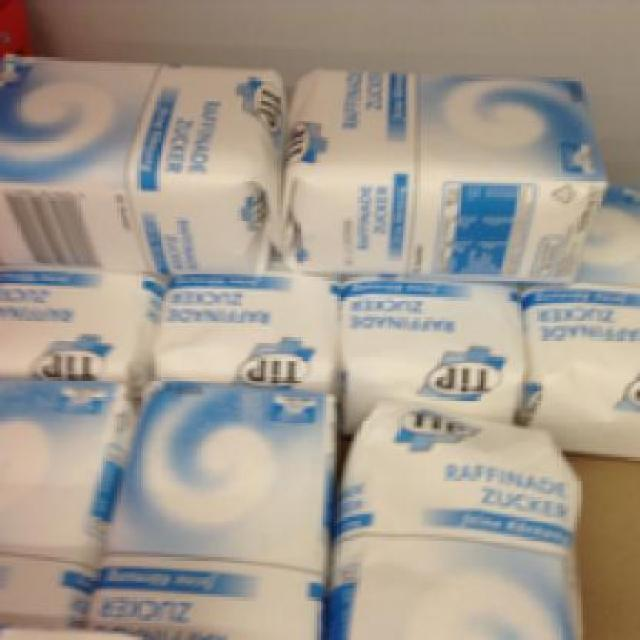Sugar: (274, 62, 606, 278), (86, 377, 334, 637), (340, 388, 586, 638), (0, 48, 277, 268), (0, 374, 126, 637), (534, 172, 637, 448)
